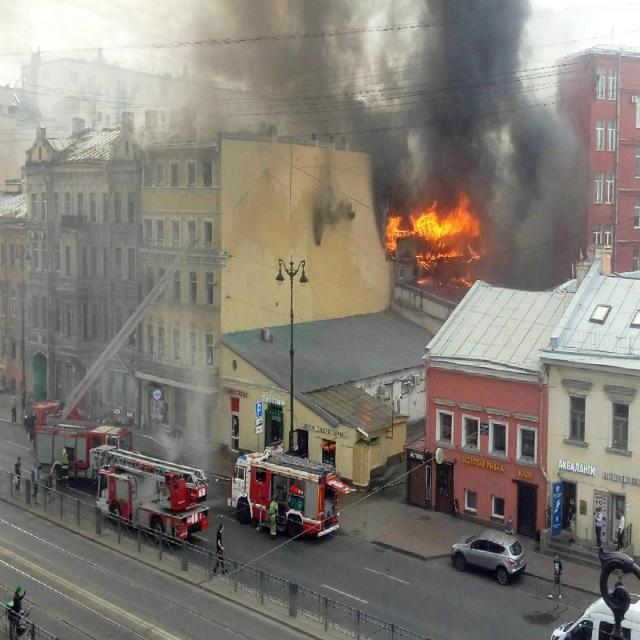Fire: (388, 192, 482, 282)
Smoke: (188, 0, 589, 286)
